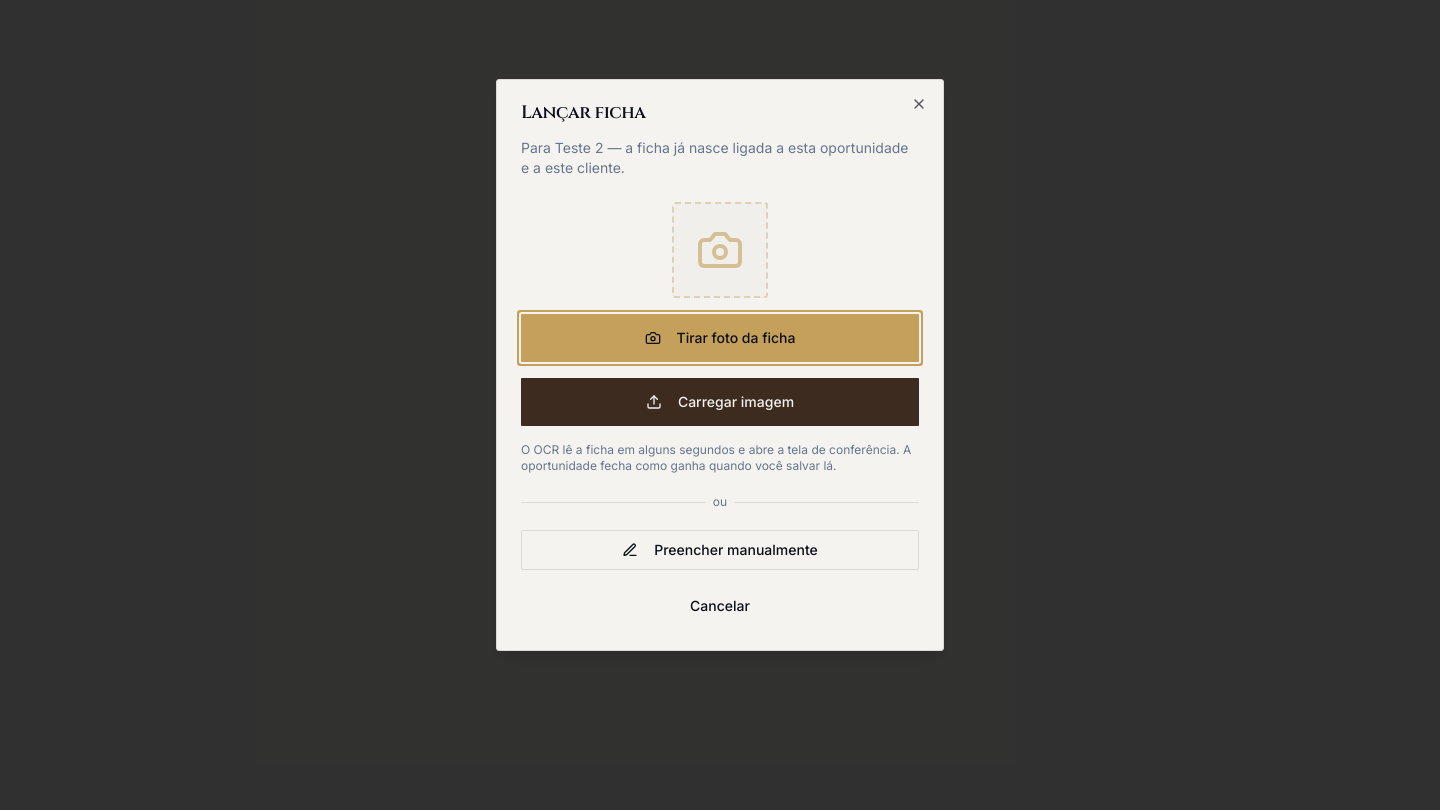
LancarFichaDialog › manual — o desvio › depois de lançar, oferece abrir a ficha completa
The image size is (1440, 810).
Click the button "Preencher manualmente": [720, 550] box [521, 530, 919, 570]
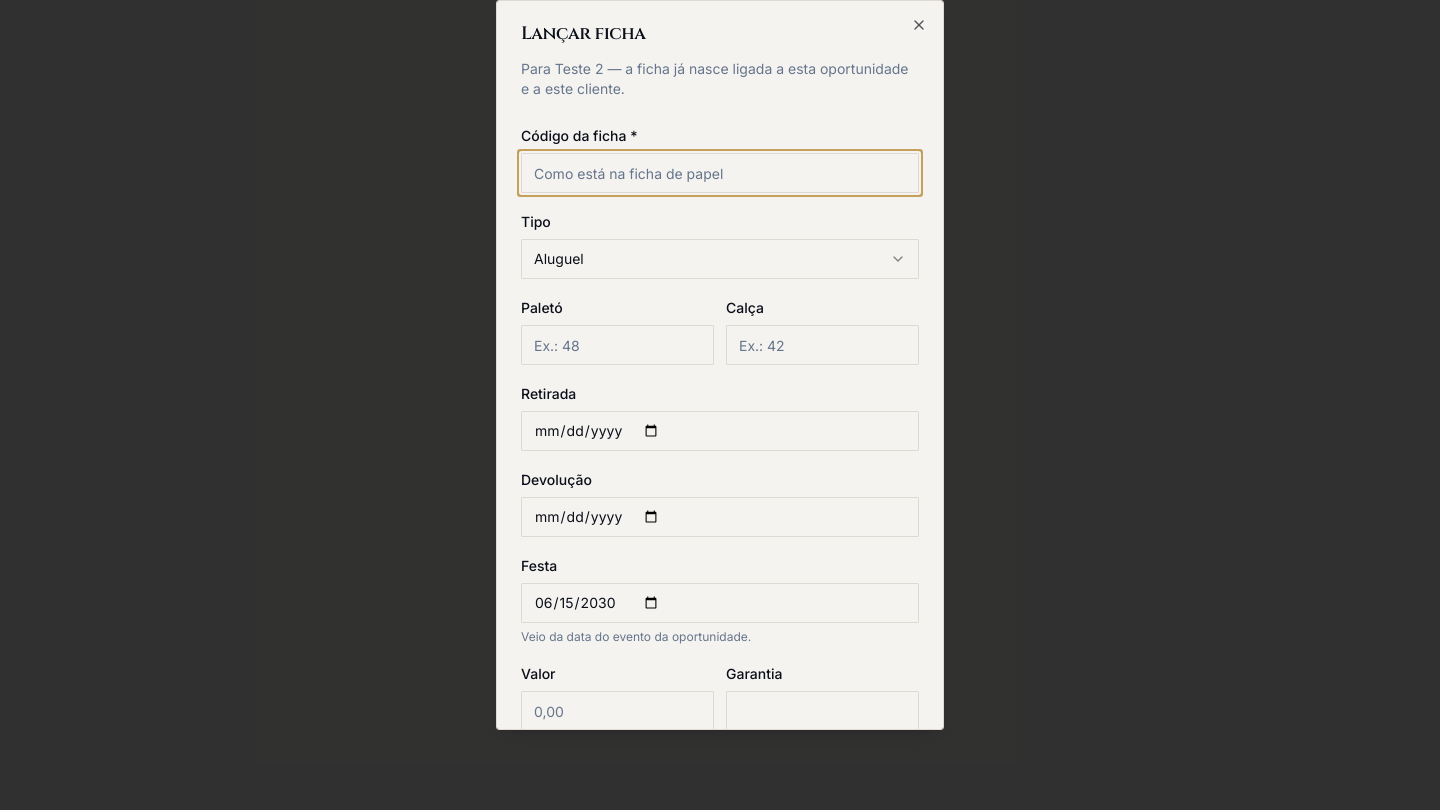
In the field labelled "Código da ficha *": [720, 173] box [521, 153, 919, 193], type "555"
(page scrolled)
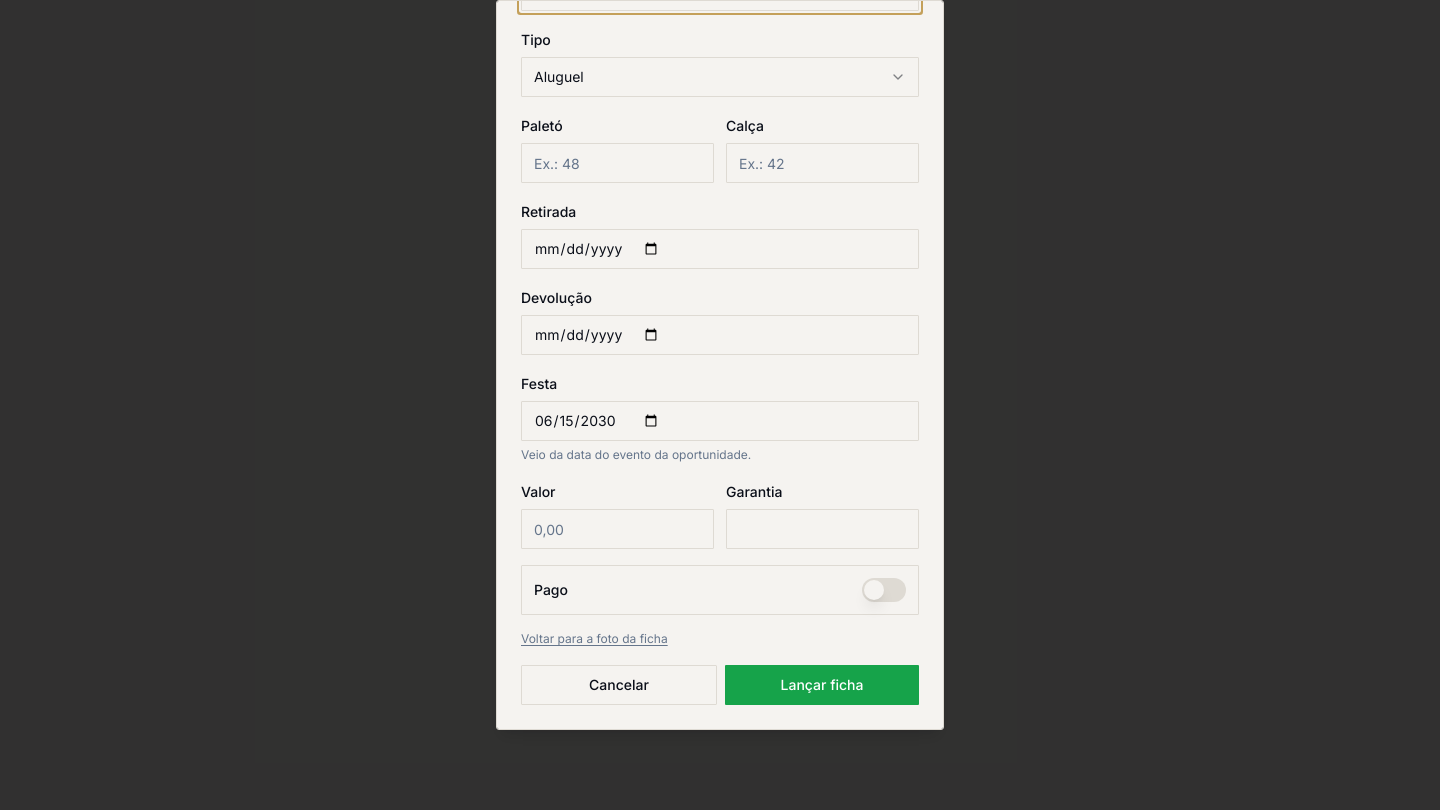
Click the button "Lançar ficha": [822, 685] box [725, 665, 919, 705]
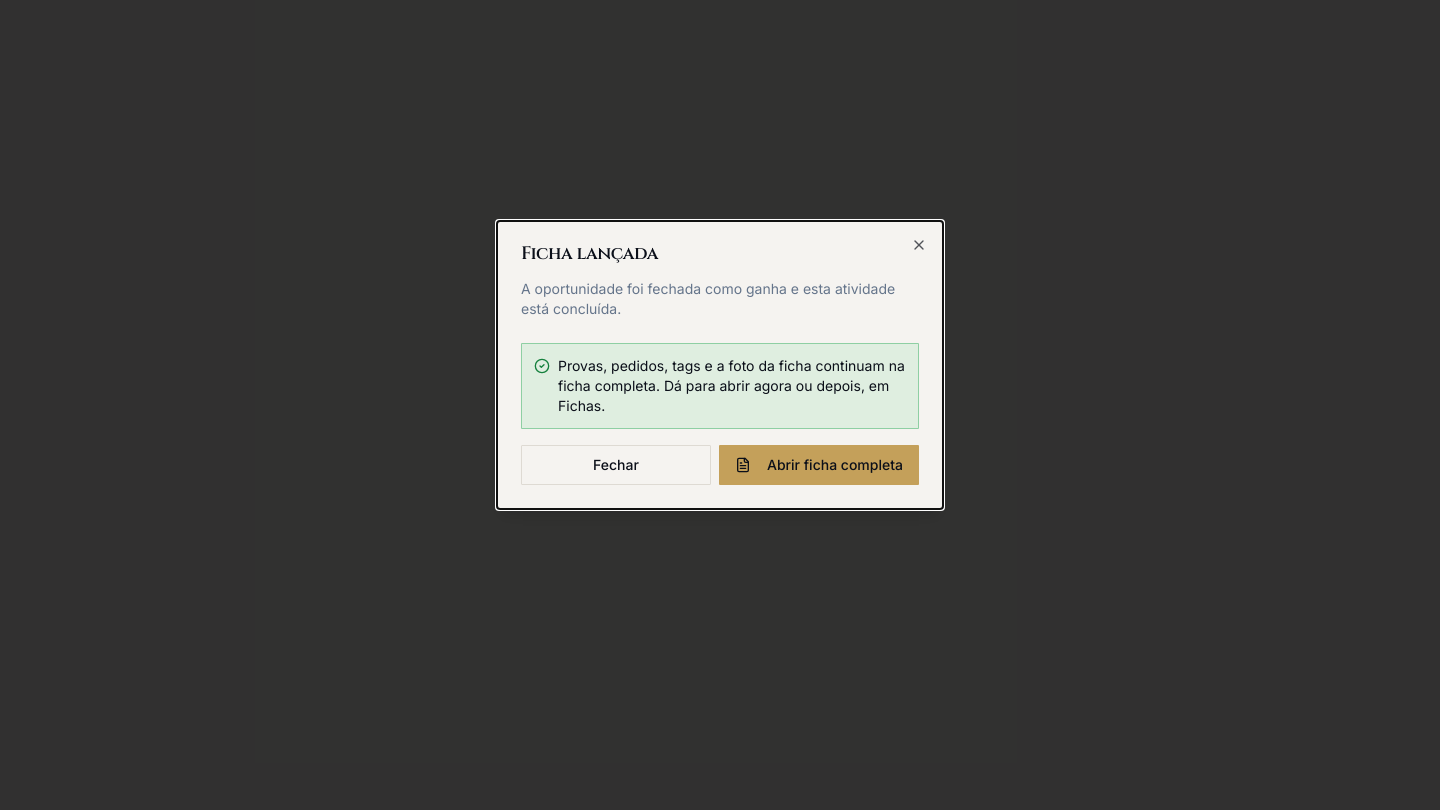
Expected: the button "Abrir ficha completa" is shown, [719, 445, 919, 485]
